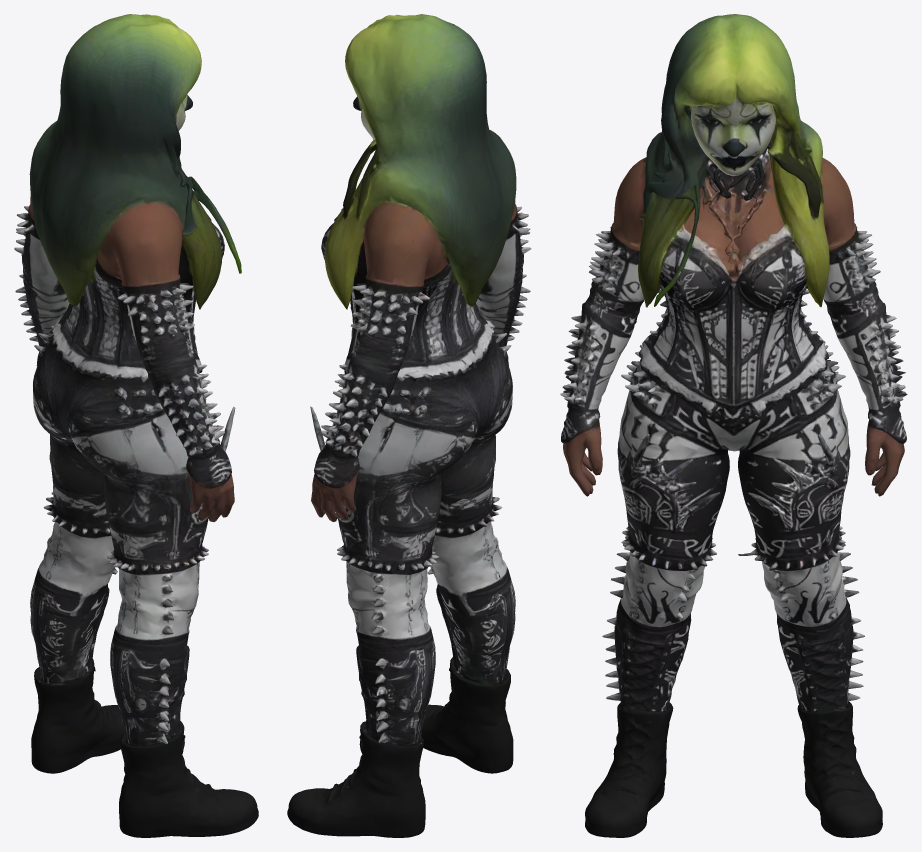
The model's file is ONYX_rigready.glb.
3 renders of one model, left to right at view 1: azimuth 30°, elevation 25°; view 2: azimuth 150°, elevation 25°; view 3: azimuth 270°, elevation 25°, orthographic. The views are drawn at different scales.
Visible parts, largest first — view 1: chest, knL, hipL, knR, shL, elL, pelvis, head, ftL, ftR, hipR, shR (+1 smaller); view 2: chest, hipR, knR, knL, pelvis, head, shR, ftR, elR, ftL, elL, hipL (+1 smaller); view 3: chest, elR, elL, knL, knR, head, shR, pelvis, hipL, shL, ftR, ftL (+3 smaller).
Boxes of the visible parts, left/top/right/bottom form: chest: left=24, top=78, right=234, bottom=305; knL: left=107, top=501, right=208, bottom=776; hipL: left=75, top=319, right=234, bottom=568; knR: left=30, top=454, right=117, bottom=727; shL: left=74, top=84, right=221, bottom=353; elL: left=83, top=241, right=241, bottom=455; pelvis: left=33, top=280, right=116, bottom=538; head: left=61, top=14, right=201, bottom=120; ftL: left=114, top=673, right=258, bottom=837; ftR: left=30, top=616, right=124, bottom=773; hipR: left=15, top=252, right=96, bottom=522; shR: left=14, top=70, right=64, bottom=261; chest: left=321, top=72, right=518, bottom=317; hipR: left=311, top=335, right=466, bottom=569; knR: left=337, top=507, right=438, bottom=776; knL: left=427, top=498, right=515, bottom=730; pelvis: left=409, top=279, right=512, bottom=542; head: left=345, top=14, right=486, bottom=106; shR: left=331, top=82, right=479, bottom=365; ftR: left=287, top=678, right=431, bottom=837; elR: left=310, top=267, right=397, bottom=505; ftL: left=421, top=616, right=515, bottom=773; elL: left=452, top=259, right=530, bottom=349; hipL: left=451, top=240, right=531, bottom=521; chest: left=637, top=67, right=832, bottom=355; elR: left=741, top=237, right=907, bottom=502; elL: left=560, top=260, right=739, bottom=446; knL: left=602, top=483, right=716, bottom=761; knR: left=742, top=492, right=864, bottom=756; head: left=670, top=14, right=791, bottom=146; shR: left=746, top=62, right=885, bottom=342; pelvis: left=668, top=294, right=784, bottom=555; hipL: left=561, top=402, right=715, bottom=558; shL: left=589, top=56, right=727, bottom=334; ftR: left=803, top=680, right=882, bottom=837; ftL: left=585, top=678, right=666, bottom=837.
Size of the model in its own units: 0.2132 by 1 by 0.3977.
Materials: 1 (1 with a texture image).
